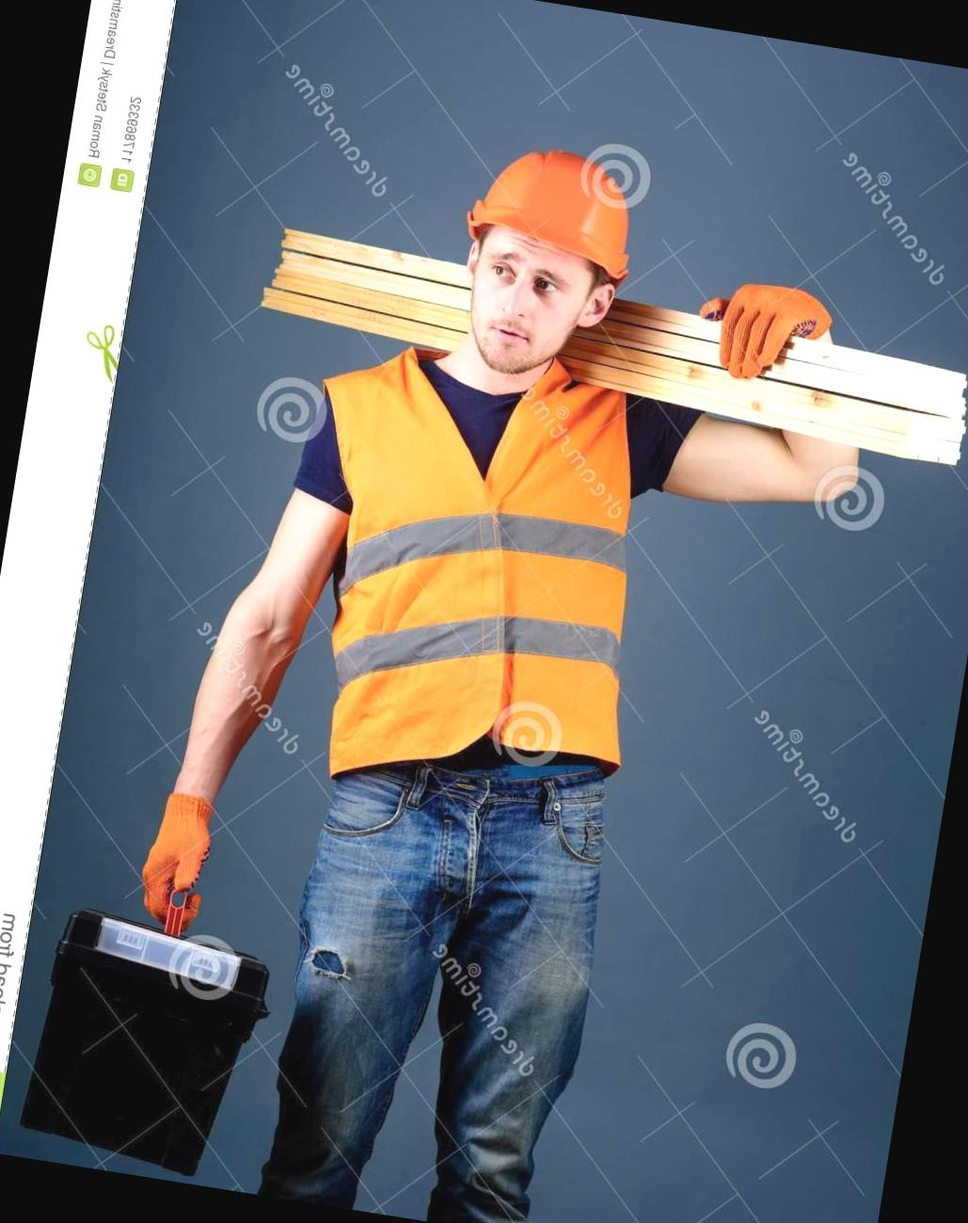helmet: (444, 144, 660, 283)
person: (164, 101, 756, 1215)
